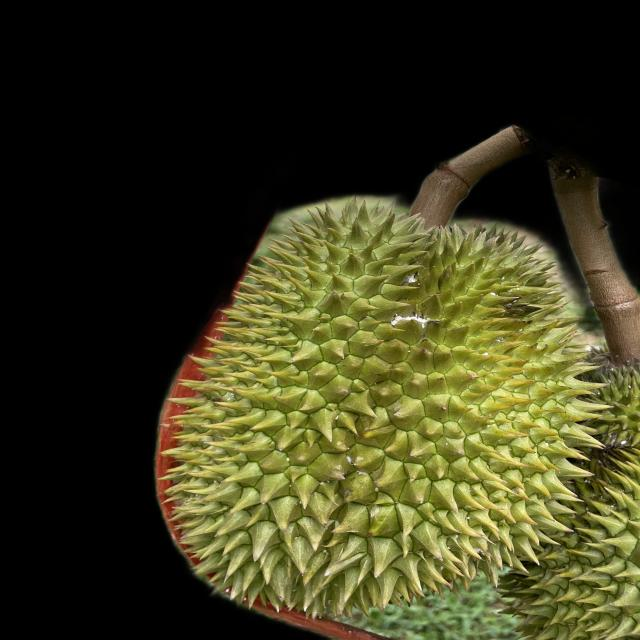immature: (166, 201, 599, 620)
